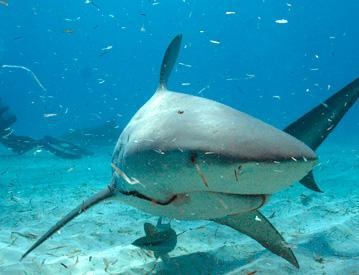fish: (14, 33, 359, 267)
